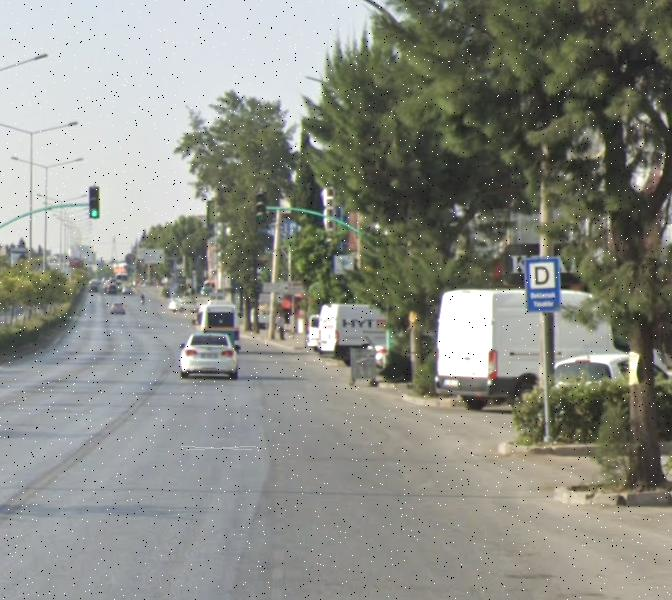greenlight: (86, 185, 101, 221)
station: (529, 260, 556, 290)
